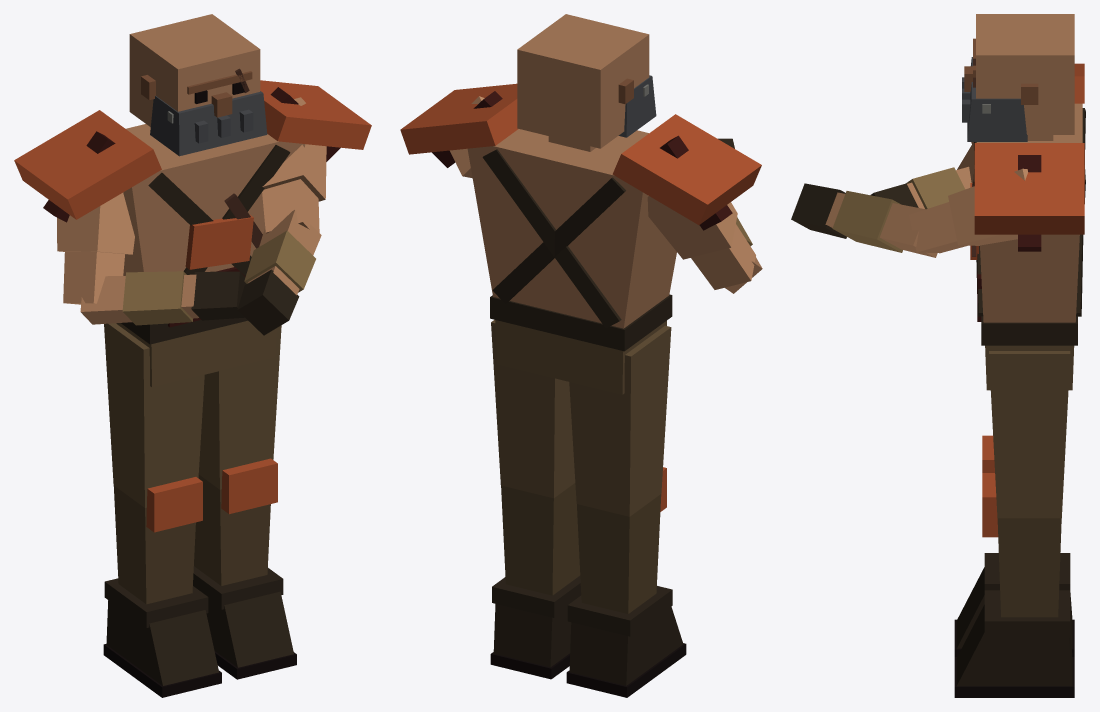
Rendered from brute.glb.
3 renders of one model, left to right at view 1: azimuth 30°, elevation 25°; view 2: azimuth 150°, elevation 25°; view 3: azimuth 270°, elevation 25°, orthographic. The views are drawn at different scales.
Visible parts, largest first — view 1: torso, leg_r_lower, leg_l_lower, head, leg_r, pauldron_r, leg_l, arm_r_lower, arm_l_lower, arm_r, pauldron_l, arm_l; view 2: torso, leg_r_lower, head, leg_l_lower, leg_r, pauldron_r, leg_l, pauldron_l, arm_r; view 3: leg_l_lower, head, torso, leg_l, pauldron_l, arm_l_lower, arm_l, leg_r_lower, arm_r_lower.
Part boxes in pixels (x1=…): torso: x1=116, y1=124, x2=305, y2=387; leg_r_lower: x1=103, y1=477, x2=221, y2=697; leg_l_lower: x1=193, y1=458, x2=296, y2=679; head: x1=129, y1=14, x2=267, y2=156; leg_r: x1=104, y1=323, x2=204, y2=507; pauldron_r: x1=14, y1=110, x2=161, y2=222; leg_l: x1=198, y1=325, x2=281, y2=489; arm_r_lower: x1=80, y1=271, x2=246, y2=325; arm_l_lower: x1=237, y1=209, x2=321, y2=335; arm_r: x1=57, y1=192, x2=134, y2=304; pauldron_l: x1=260, y1=80, x2=371, y2=161; arm_l: x1=262, y1=97, x2=326, y2=240; torso: x1=467, y1=129, x2=676, y2=394; leg_r_lower: x1=566, y1=467, x2=686, y2=697; head: x1=517, y1=14, x2=656, y2=151; leg_l_lower: x1=490, y1=483, x2=581, y2=679; leg_r: x1=569, y1=325, x2=671, y2=516; pauldron_r: x1=612, y1=114, x2=761, y2=230; leg_l: x1=491, y1=319, x2=575, y2=498; pauldron_l: x1=400, y1=83, x2=518, y2=167; arm_r: x1=647, y1=195, x2=755, y2=289; leg_l_lower: x1=954, y1=473, x2=1074, y2=697; head: x1=962, y1=14, x2=1074, y2=141; torso: x1=970, y1=103, x2=1085, y2=390; leg_l: x1=989, y1=351, x2=1070, y2=518; pauldron_l: x1=974, y1=143, x2=1084, y2=251; arm_l_lower: x1=791, y1=183, x2=937, y2=257; arm_l: x1=909, y1=168, x2=1027, y2=253; leg_r_lower: x1=954, y1=435, x2=1074, y2=656; arm_r_lower: x1=870, y1=166, x2=971, y2=209.
Size of the model in its own units: 1.01 by 1.94 by 0.8249.
